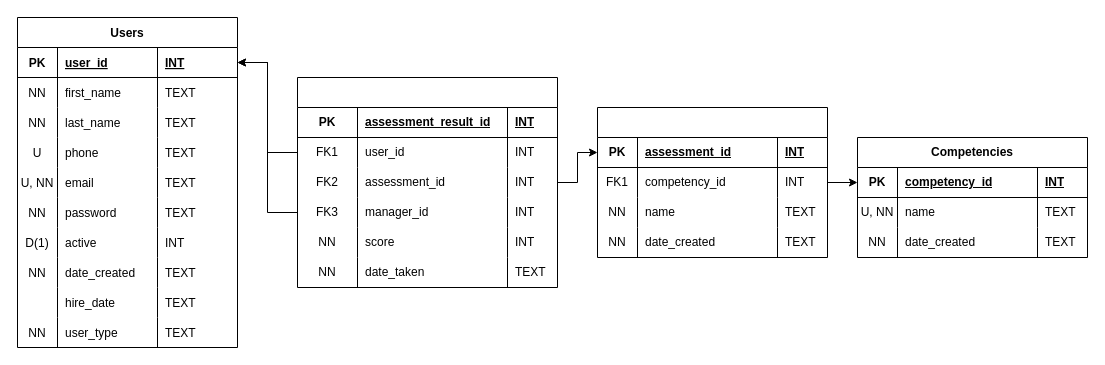
This 1105x365 diagram has some shape labels left out. The shapes that lost their labels are listed below. From the top down, each one's box as (x1, y1, x2, y2) in pixels, then its label:
(296, 76, 558, 288): Assessment_Results
(596, 106, 828, 258): Assessments
